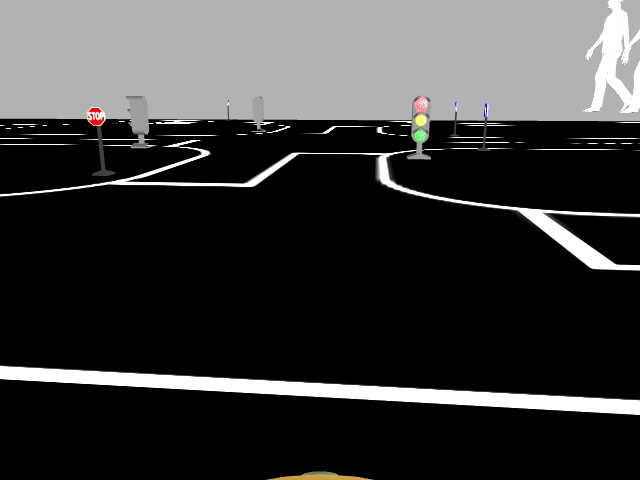Stop: (85, 106, 105, 125)
TrafficLight: (410, 95, 431, 143)
